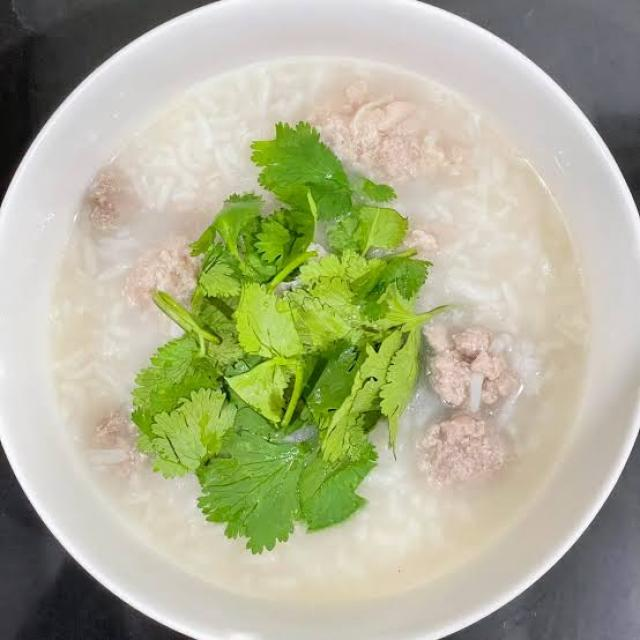carb: (452, 158, 608, 364), (127, 521, 480, 586), (174, 70, 300, 192), (64, 260, 158, 385)
meat: (414, 332, 503, 477)
rice porridge: (67, 88, 627, 599)
vegetable: (221, 196, 385, 514)
